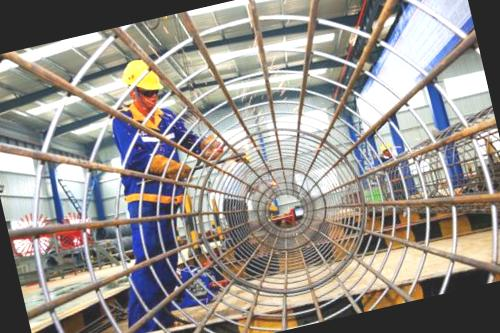person: (62, 42, 255, 333)
